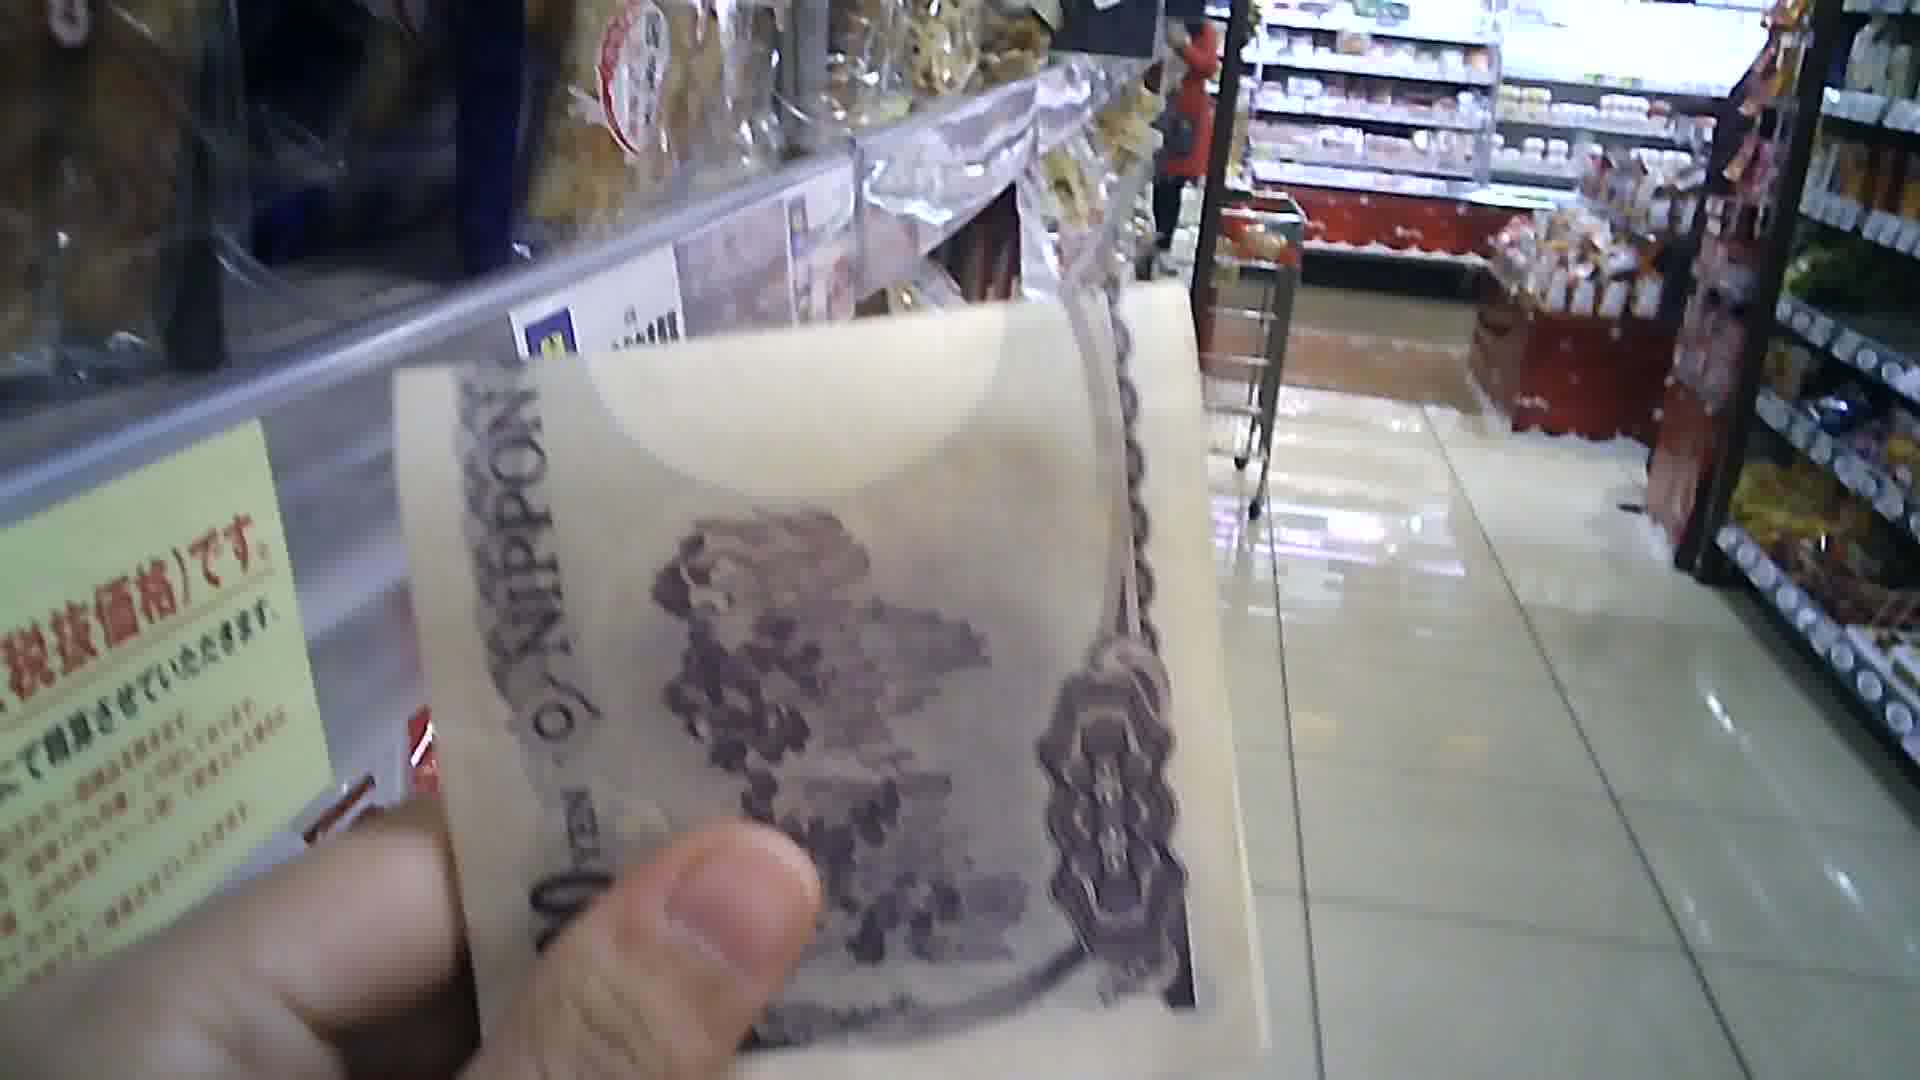5,000 Yen: (378, 280, 1269, 1069)
